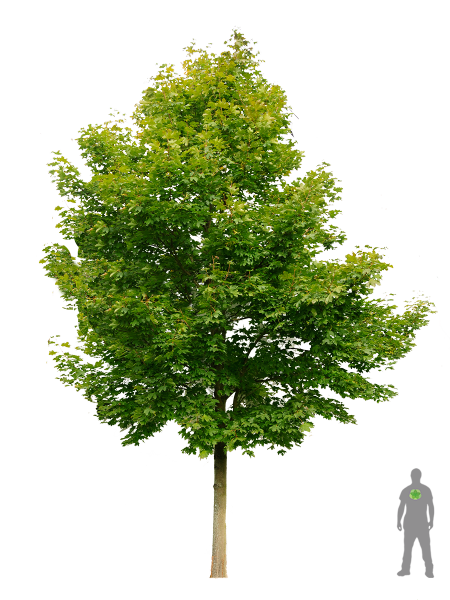tree: (38, 26, 436, 579)
